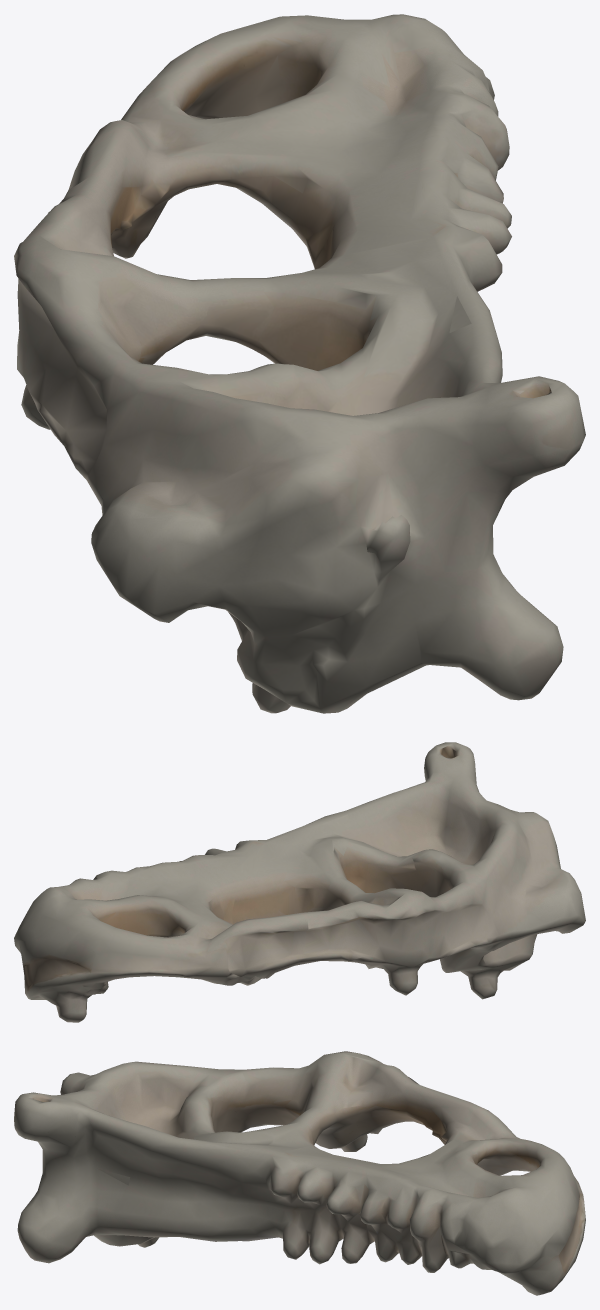
The model's file is bone6.glb.
3 views of the same model, one above another, from view 1: azimuth 30°, elevation 25°; view 2: azimuth 150°, elevation 25°; view 3: azimuth 270°, elevation 25° (orthographic). The views are drawn at different scales.
Visible parts, largest first — view 1: tripo_node_019dca80-92da-4cb3-88ad-30182b102a8f; view 2: tripo_node_019dca80-92da-4cb3-88ad-30182b102a8f; view 3: tripo_node_019dca80-92da-4cb3-88ad-30182b102a8f.
Boxes of the visible parts, x1,y1,x2,y2 form: tripo_node_019dca80-92da-4cb3-88ad-30182b102a8f: (14,14,585,713); tripo_node_019dca80-92da-4cb3-88ad-30182b102a8f: (14,742,585,1022); tripo_node_019dca80-92da-4cb3-88ad-30182b102a8f: (14,1051,585,1295).
Size of the model in its own units: 0.7376 by 0.3523 by 0.9448.
1 material, 1 textured.
